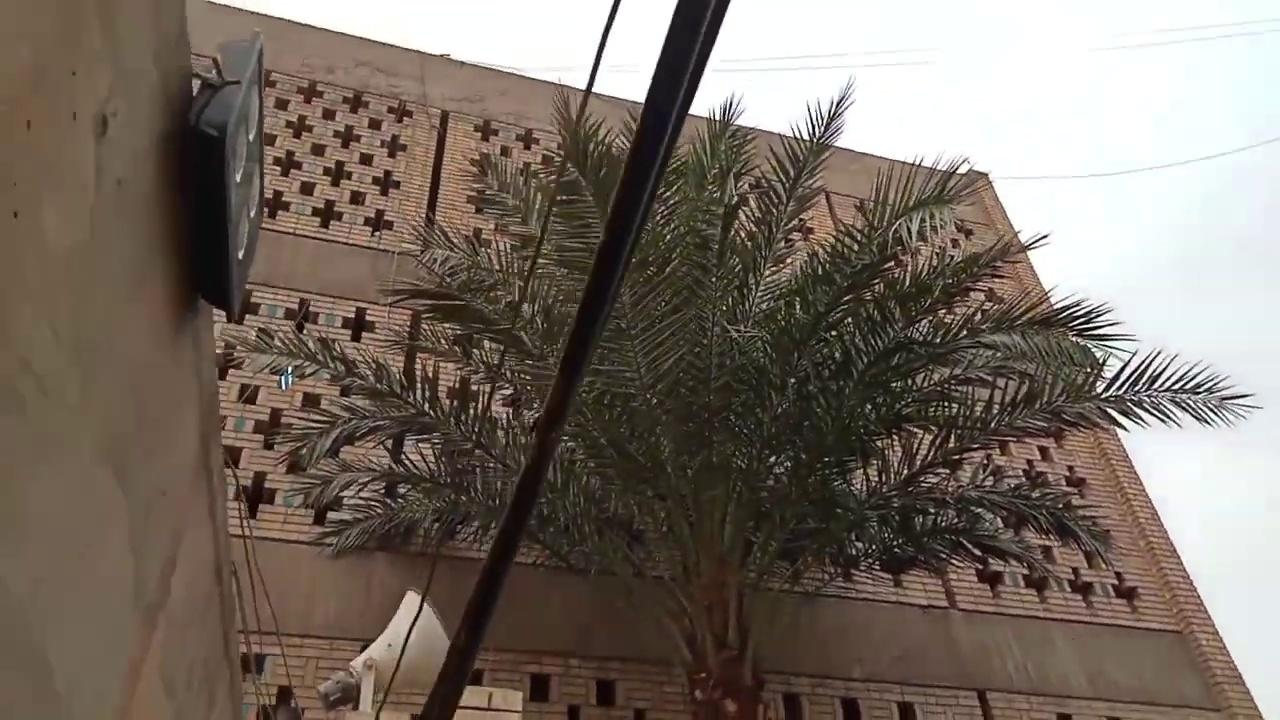tree: (220, 72, 1261, 717)
